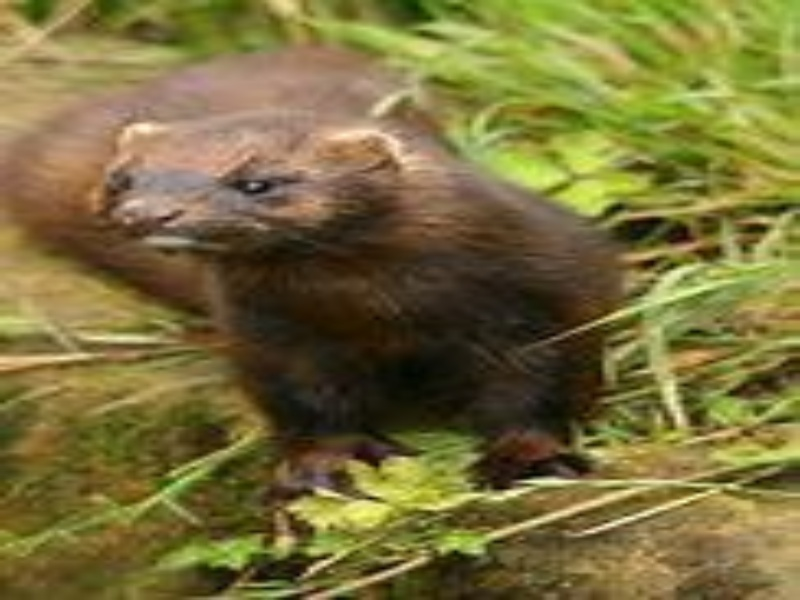minkish: (21, 52, 627, 485)
